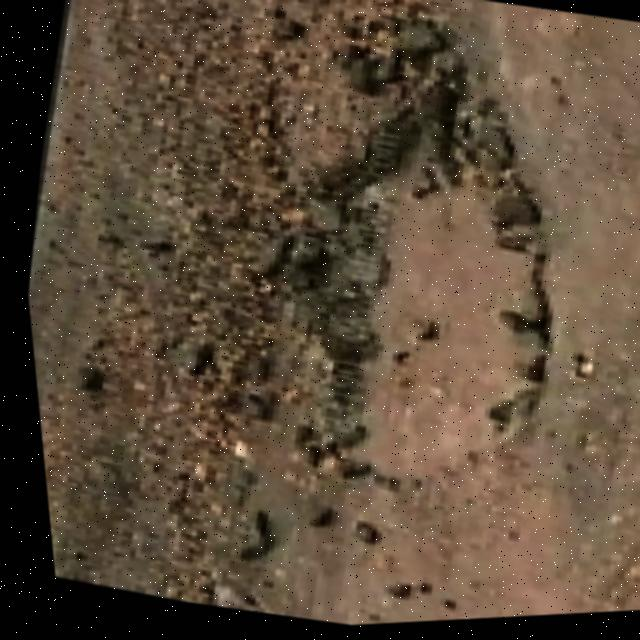Pothole: (208, 28, 640, 542)
